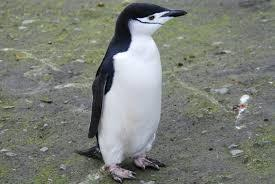chinstrap: (81, 0, 187, 180)
